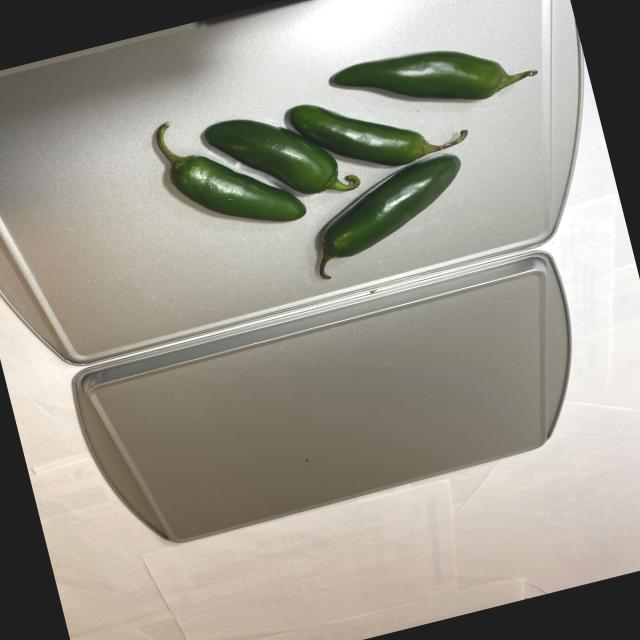chilli: (133, 15, 582, 313)
